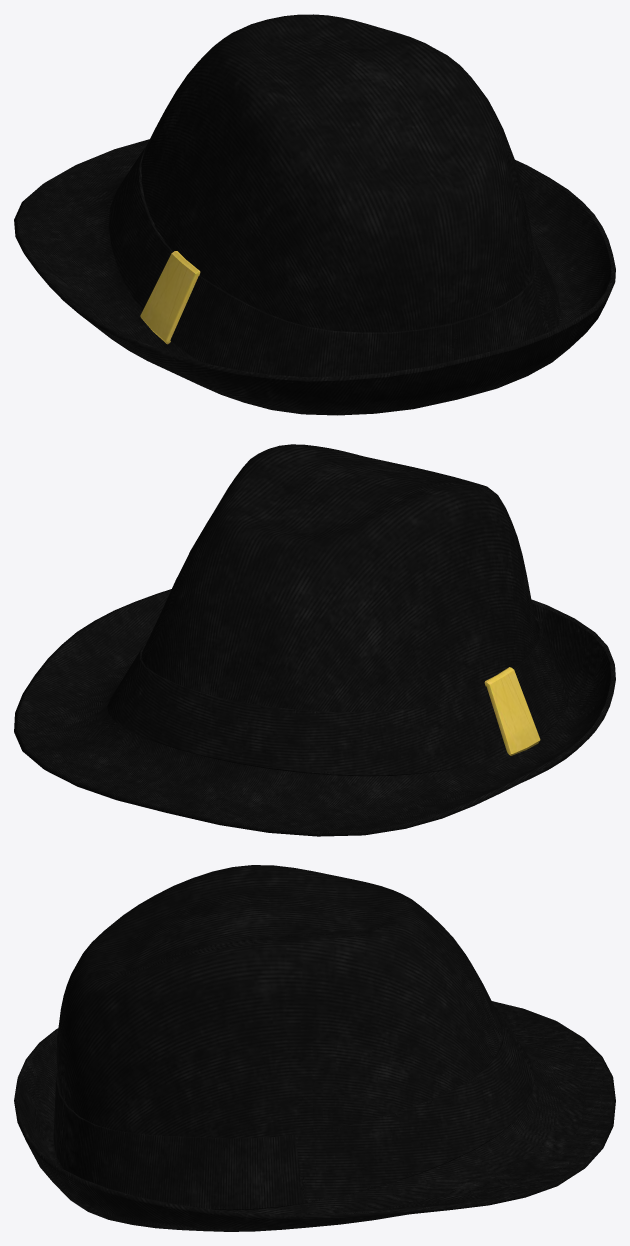
Rendered from New Hat 02.glb.
3 views of the same model, one above another, from view 1: azimuth 30°, elevation 25°; view 2: azimuth 150°, elevation 25°; view 3: azimuth 270°, elevation 25° (orthographic). The views are drawn at different scales.
Visible parts, largest first — view 1: Cinta_Sombrero.001; view 2: Cinta_Sombrero.001; view 3: Cinta_Sombrero.001.
Boxes of the visible parts, bbox=[...] form: Cinta_Sombrero.001: bbox=[14, 14, 615, 415]; Cinta_Sombrero.001: bbox=[14, 444, 615, 836]; Cinta_Sombrero.001: bbox=[14, 865, 615, 1231].
Bounding box in the file's own units: 0.2625 × 0.1286 × 0.2857.
2 materials, 2 textured.
